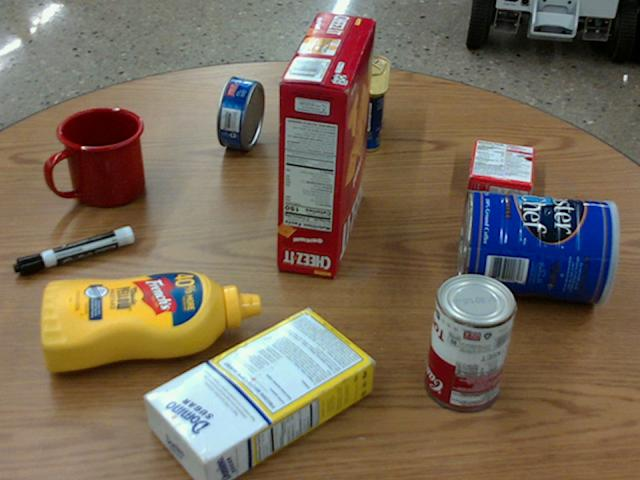cracker_box: (278, 11, 376, 275)
gelatin_box: (466, 138, 533, 202)
large_marker: (14, 225, 133, 275)
master_chef_can: (458, 187, 620, 302)
mug: (48, 108, 144, 207)
mustard_bottle: (40, 269, 260, 372)
potted_meat_can: (340, 54, 389, 151)
sugar_box: (140, 307, 372, 479)
tomato_soup_can: (427, 270, 516, 409)
tuna_fish_can: (215, 76, 264, 149)
